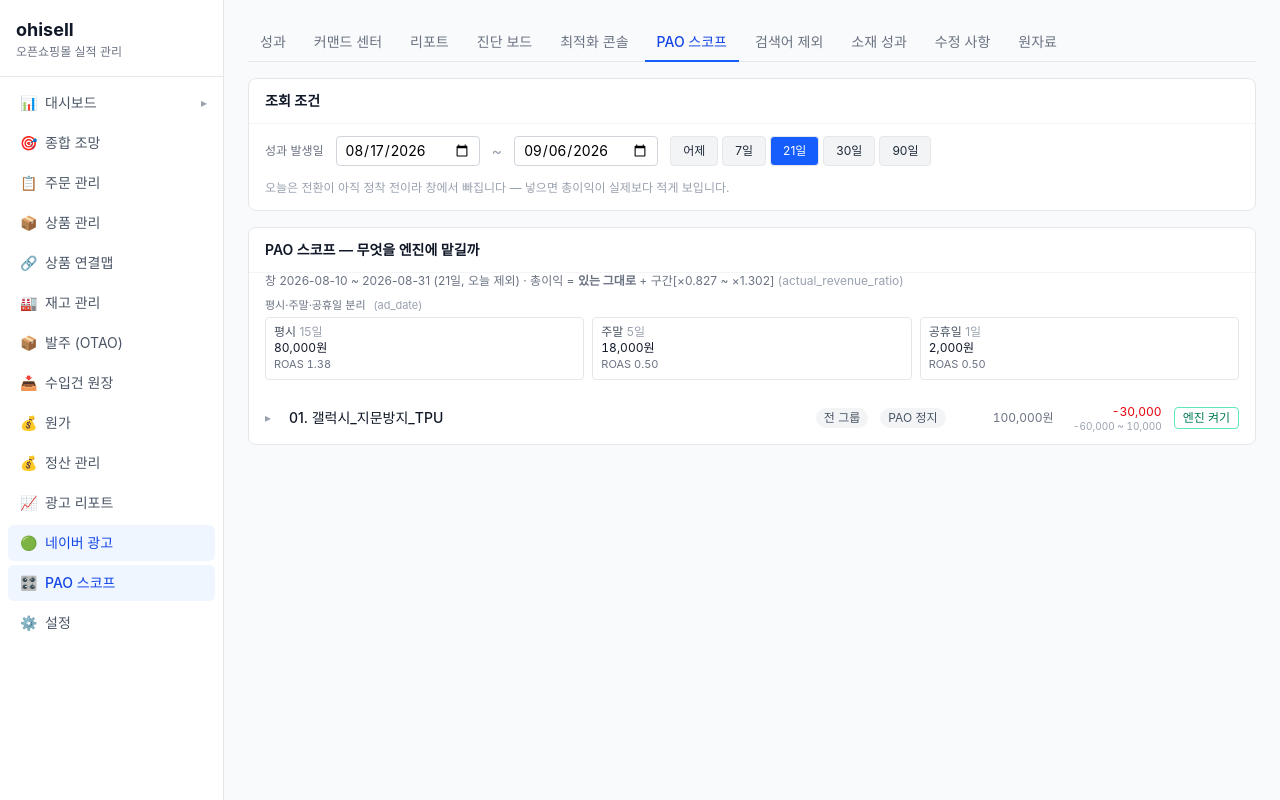
it: ★재개방의 손이 사람에게 닿는 경로 › RSUR-1: 우리가 건 제외가 있으면 재개방 패널과 검색어가 화면에 뜬다
What coordinates should you click on to do the following:
click the text "01. 갤럭시_지문방지_TPU"
I would click on:
 (366, 417)
Its box is [289,409,443,426].
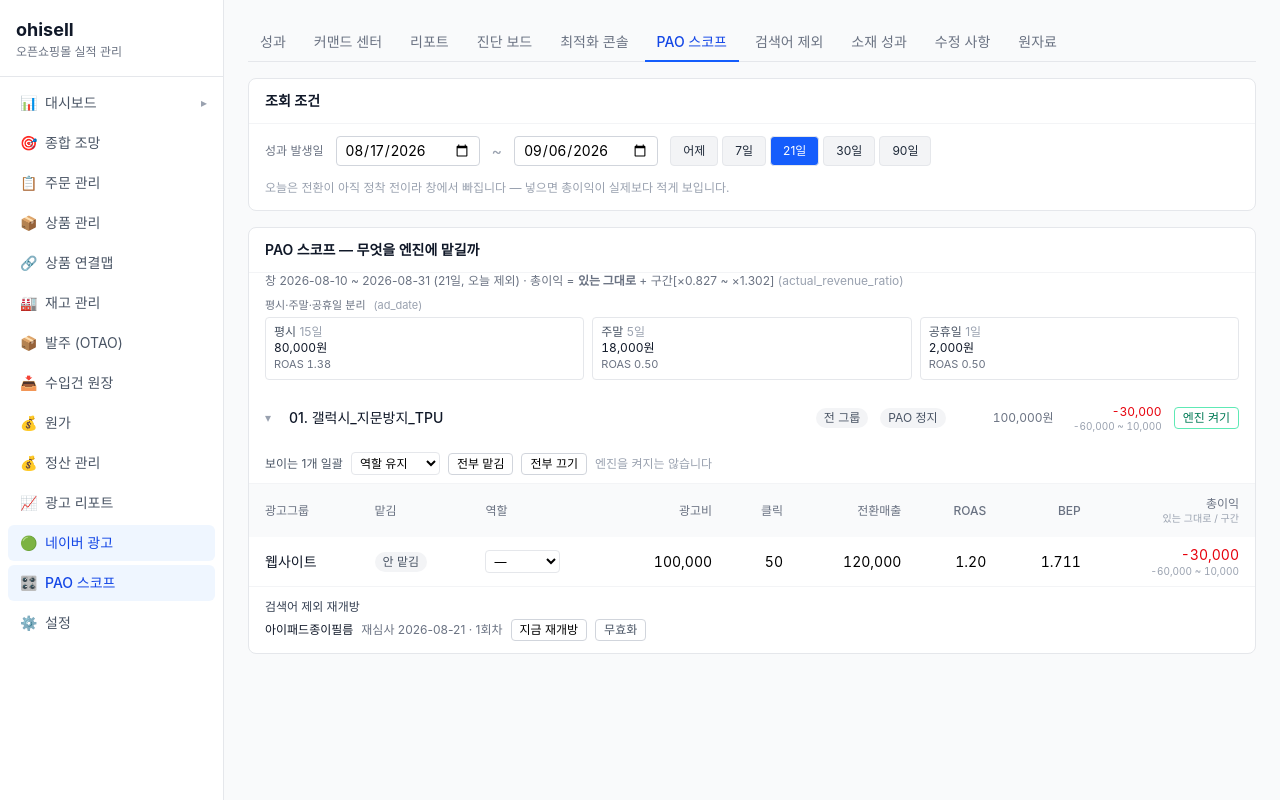
Now the text "검색어 제외 재개방" is shown, box [265,599,360,614]
Now the text "아이패드종이필름" is shown, box [265,622,353,638]
Now the button "지금 재개방" is shown, box [510,619,587,641]
